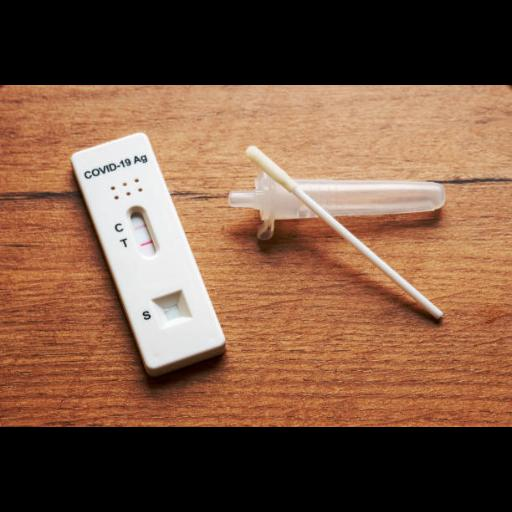Pos: (74, 131, 228, 369)
